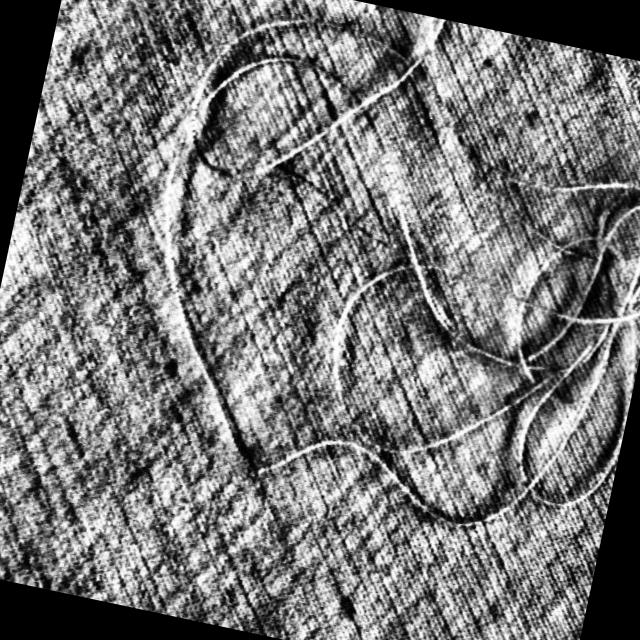gray stitch: (107, 0, 640, 557)
